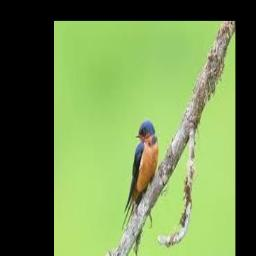Swallow: (122, 120, 159, 233)
